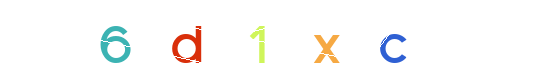1: (234, 0, 314, 80)
6: (91, 0, 171, 80)
C: (352, 0, 432, 80)
D: (149, 0, 229, 80)
X: (250, 0, 330, 80)
